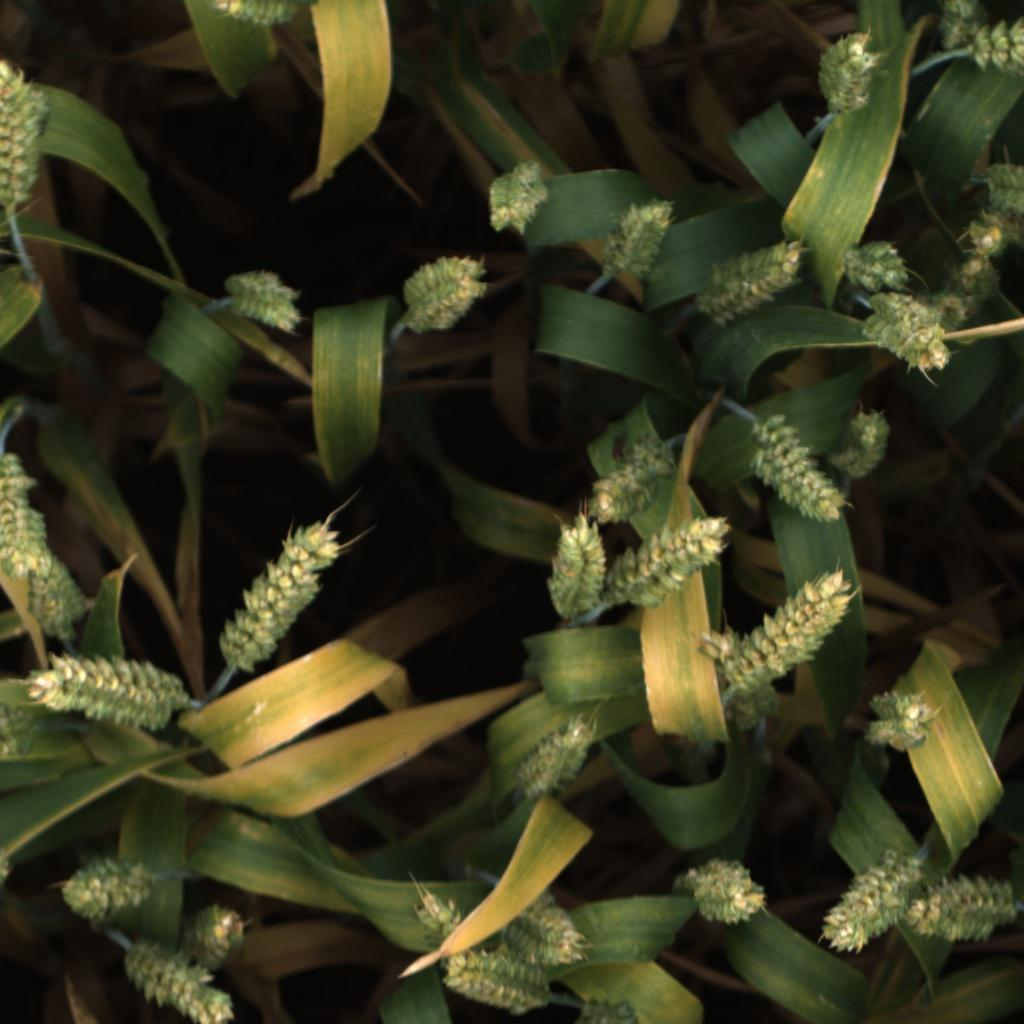0-0: (212, 518, 339, 678), (731, 559, 859, 690), (26, 649, 193, 735), (610, 511, 740, 612), (739, 412, 847, 532), (817, 842, 927, 953), (114, 931, 237, 1024), (696, 626, 788, 741), (693, 232, 801, 329), (539, 502, 615, 627), (586, 427, 674, 529), (903, 872, 1014, 949), (438, 946, 561, 1015), (853, 292, 954, 374), (400, 251, 491, 337), (0, 59, 50, 212), (598, 191, 680, 281), (501, 887, 589, 968), (61, 852, 157, 925), (513, 720, 595, 805), (684, 853, 772, 932), (814, 25, 882, 122), (22, 547, 88, 638), (224, 265, 304, 340), (483, 153, 549, 241), (827, 403, 897, 485), (176, 903, 250, 970), (862, 689, 933, 752), (0, 447, 38, 560), (842, 238, 914, 297), (0, 507, 51, 583), (968, 13, 1023, 80), (944, 245, 1001, 305), (415, 889, 471, 946), (922, 285, 984, 335), (0, 700, 44, 761), (211, 0, 306, 28), (935, 0, 985, 53), (980, 158, 1024, 217), (568, 995, 640, 1024), (965, 221, 1005, 258), (990, 209, 1023, 247), (0, 846, 14, 888)
